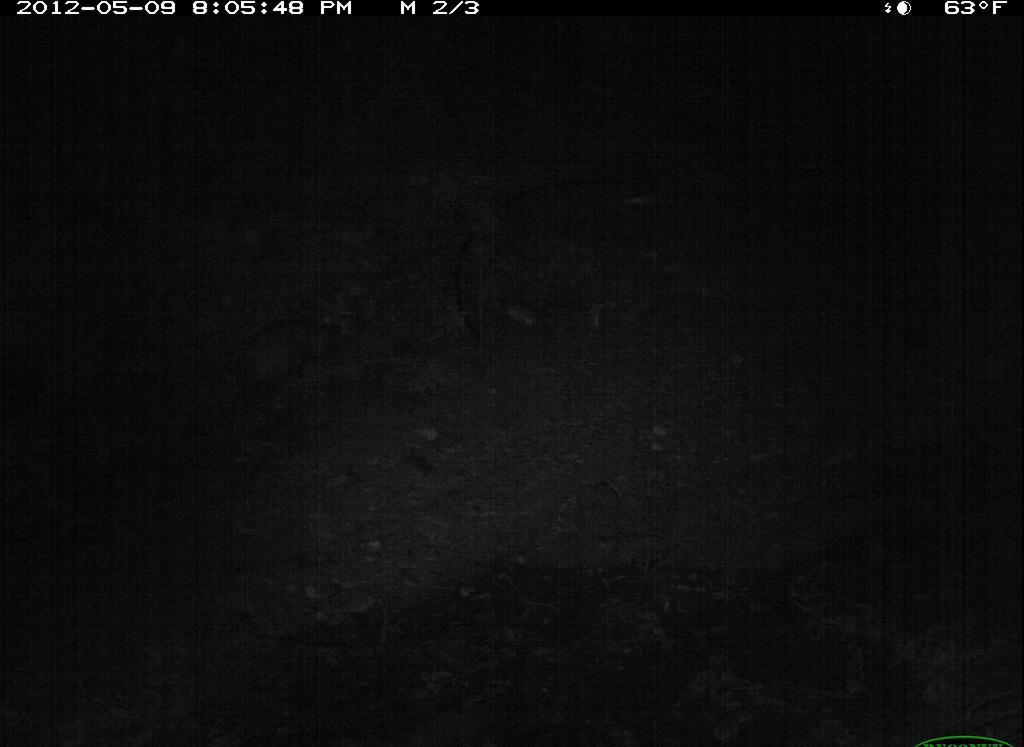opossum: (199, 295, 367, 419)
